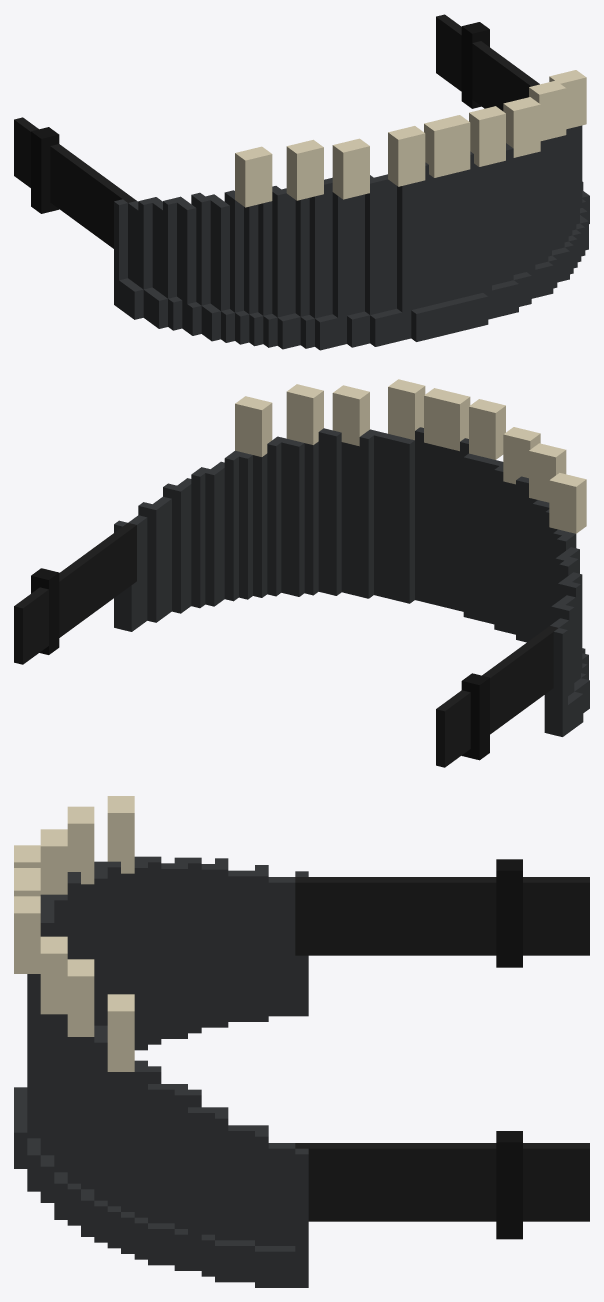
File: plastic_mandible_guard.glb
3 views of the same model, one above another, from view 1: azimuth 30°, elevation 25°; view 2: azimuth 150°, elevation 25°; view 3: azimuth 270°, elevation 25° (orthographic). The views are drawn at different scales.
Parts seen in each view (by area): view 1: plastic_mandible_guard:compound; view 2: plastic_mandible_guard:compound; view 3: plastic_mandible_guard:compound.
Boxes of the visible parts, left/top/right/bottom form: plastic_mandible_guard:compound: left=14, top=14, right=589, bottom=350; plastic_mandible_guard:compound: left=14, top=379, right=589, bottom=767; plastic_mandible_guard:compound: left=14, top=796, right=589, bottom=1287.
Size of the model in its own units: 0.2 by 0.088 by 0.172.
